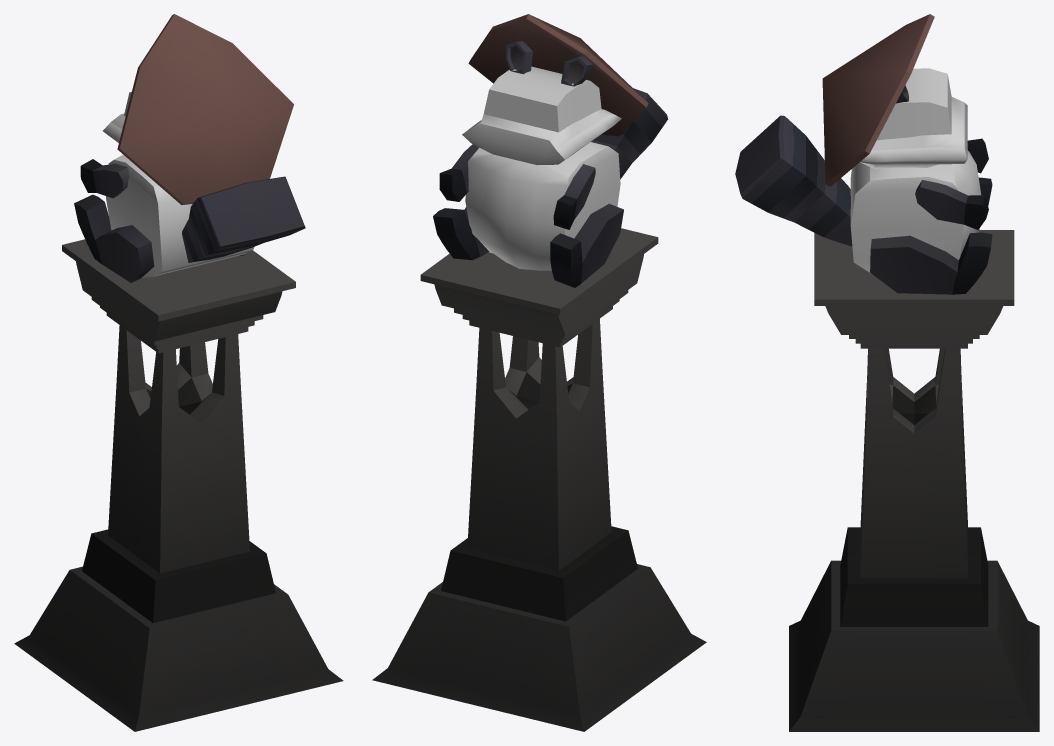
The model's file is EstatuaGuaxi.fbx.
The picture shows the model from 3 angles, left to right: view 1: azimuth 30°, elevation 25°; view 2: azimuth 150°, elevation 25°; view 3: azimuth 270°, elevation 25°; orthographic projection. The views are drawn at different scales.
Parts seen in each view (by area): view 1: pCube12; view 2: pCube12; view 3: pCube12.
Boxes of the visible parts, <box> form: pCube12: <box>14,14,343,731</box>; pCube12: <box>372,14,706,731</box>; pCube12: <box>735,14,1039,731</box>.
Bounding box in the file's own units: 1.18 × 3.45 × 1.43.
